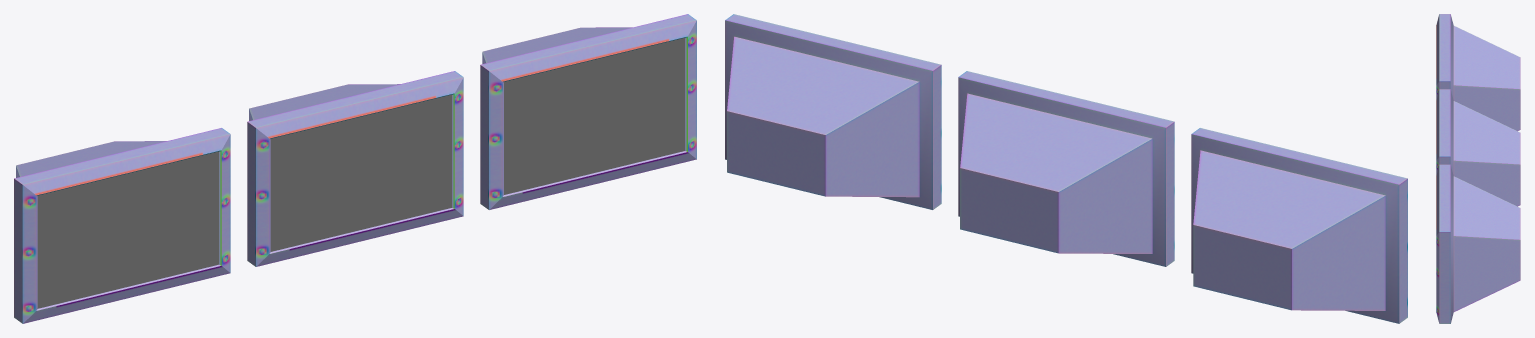
The model's file is LitFloodLightsA2.fbx.
The picture shows the model from 3 angles, left to right: view 1: azimuth 30°, elevation 25°; view 2: azimuth 150°, elevation 25°; view 3: azimuth 270°, elevation 25°; orthographic projection. The views are drawn at different scales.
Parts seen in each view (by area): view 1: LitFloodLightsA2; view 2: LitFloodLightsA2; view 3: LitFloodLightsA2.
Boxes of the visible parts, x1,y1,x2,y2 form: LitFloodLightsA2: (14, 14, 696, 323); LitFloodLightsA2: (725, 14, 1407, 323); LitFloodLightsA2: (1436, 14, 1520, 323).
Bounding box in the file's own units: 89.5 × 17.65 × 14.62.
2 materials, 1 textured.
